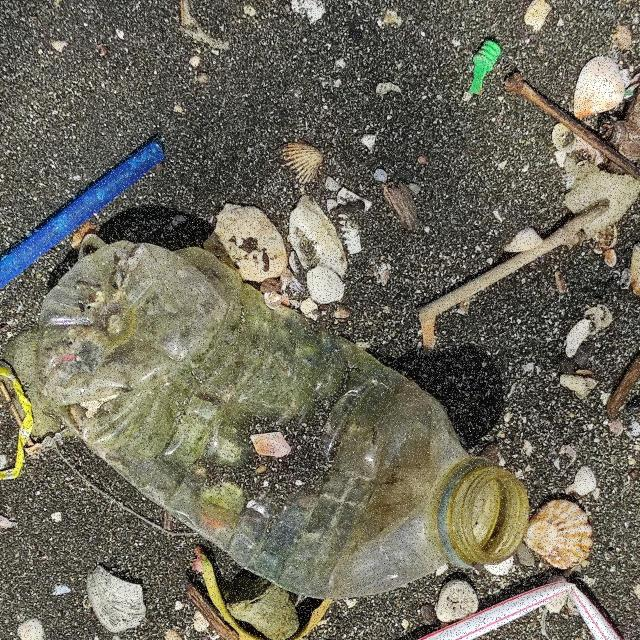plastic_waste: (39, 243, 533, 601), (1, 134, 163, 310)
